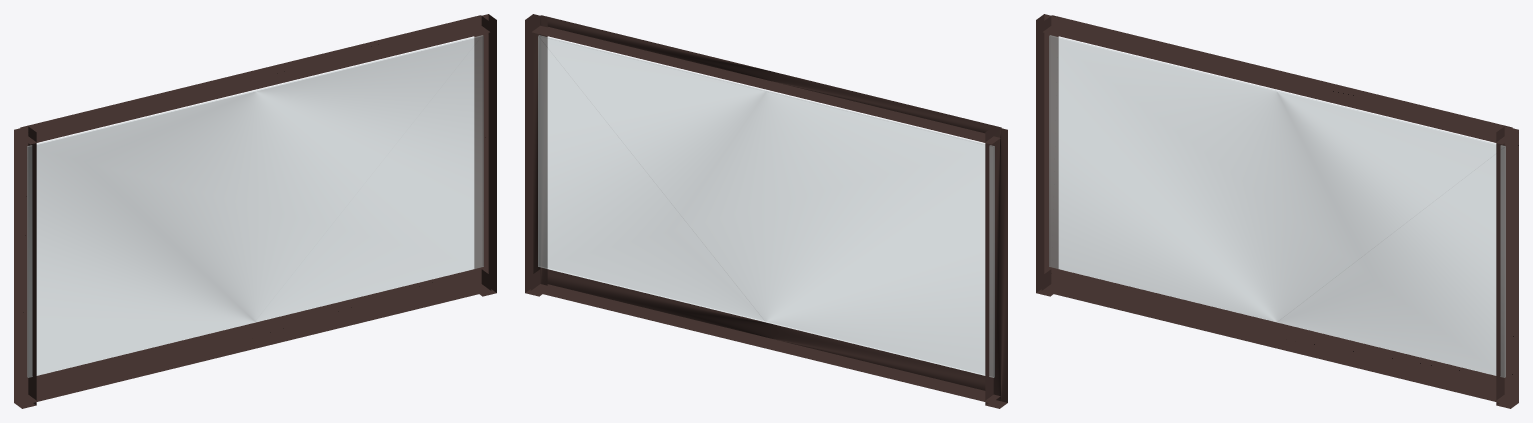
The model's file is ograjca-steklo-8017.glb.
The picture shows the model from 3 angles, left to right: view 1: azimuth 30°, elevation 25°; view 2: azimuth 150°, elevation 25°; view 3: azimuth 330°, elevation 25°; orthographic projection.
Visible parts, largest first — view 1: Node_steklo, Node_kovina; view 2: Node_steklo, Node_kovina; view 3: Node_steklo, Node_kovina.
Part boxes in pixels (x1,y1,x2,y2): Node_steklo: [27, 35, 483, 377]; Node_kovina: [14, 14, 496, 408]; Node_steklo: [538, 35, 994, 377]; Node_kovina: [525, 14, 1007, 408]; Node_steklo: [1049, 35, 1505, 377]; Node_kovina: [1036, 14, 1518, 408].
Bounding box in the file's own units: 2 × 1.1 × 0.084.
